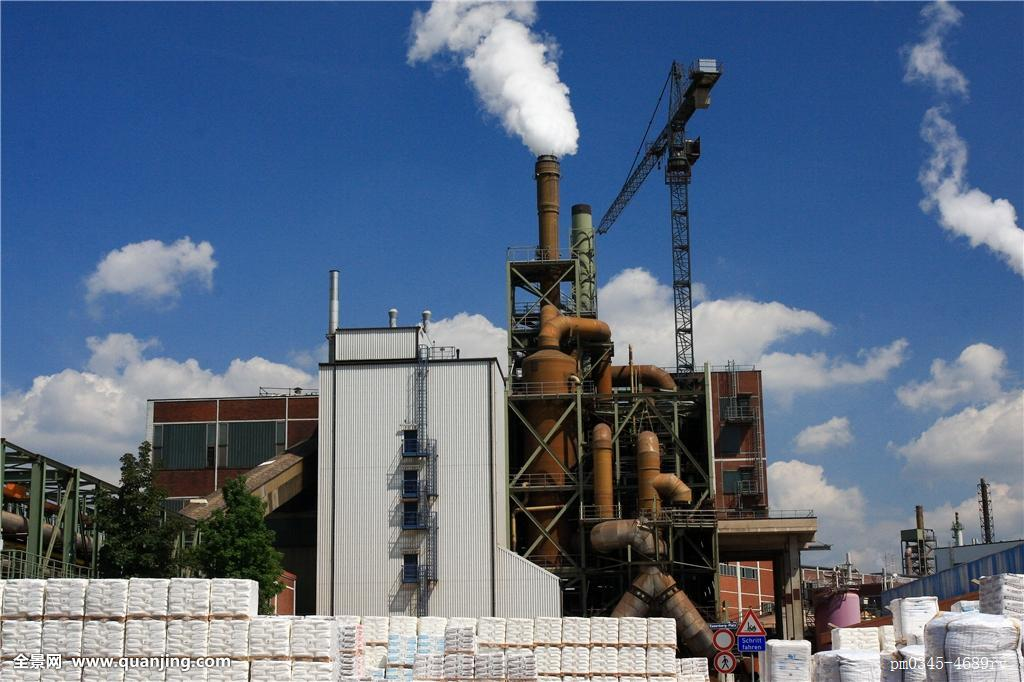dust: (401, 10, 601, 161)
